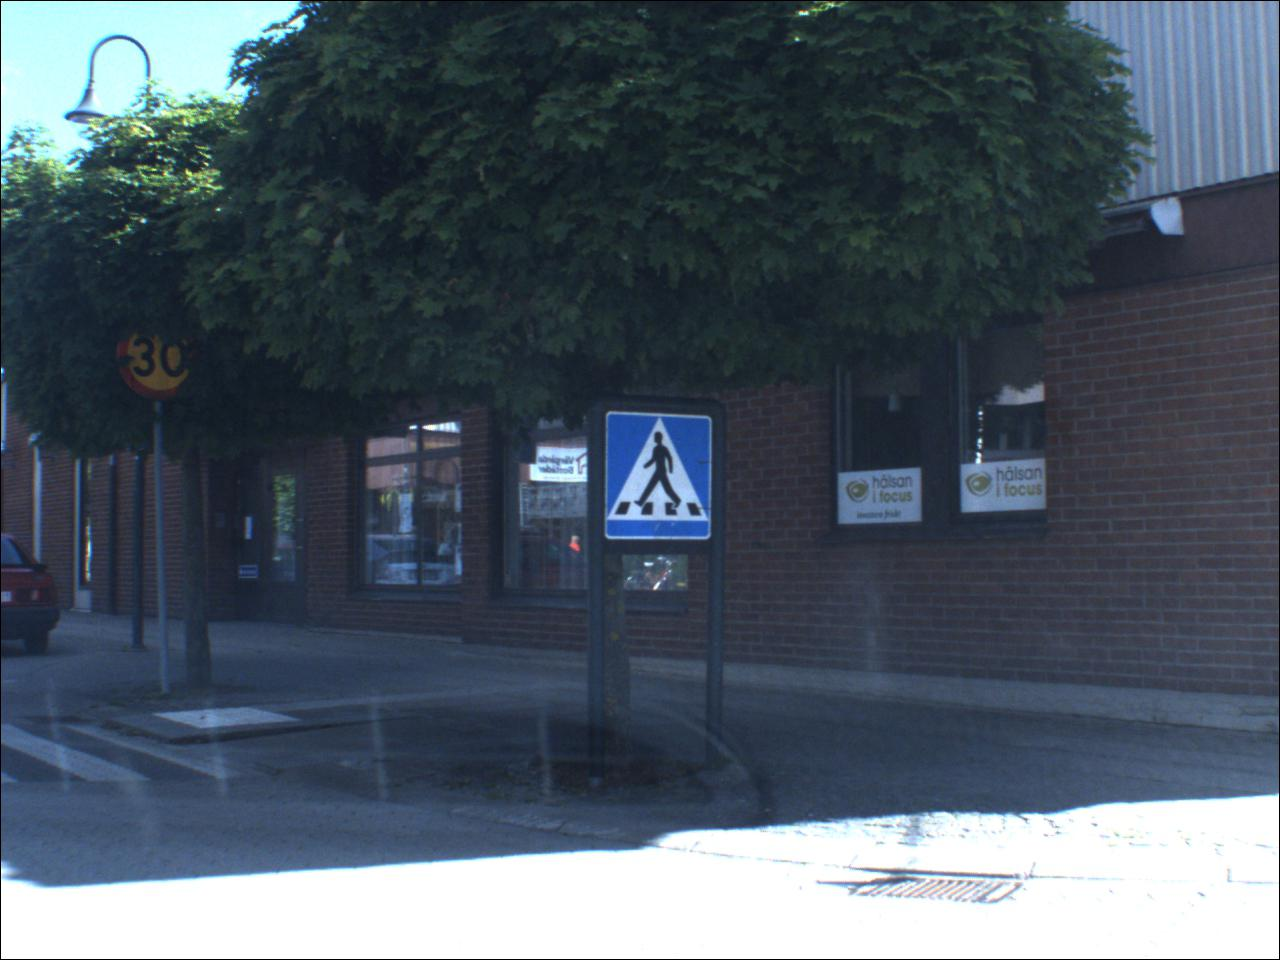30_SIGN: (115, 318, 211, 396)
PEDESTRIAN_CROSSING: (610, 415, 711, 539)
